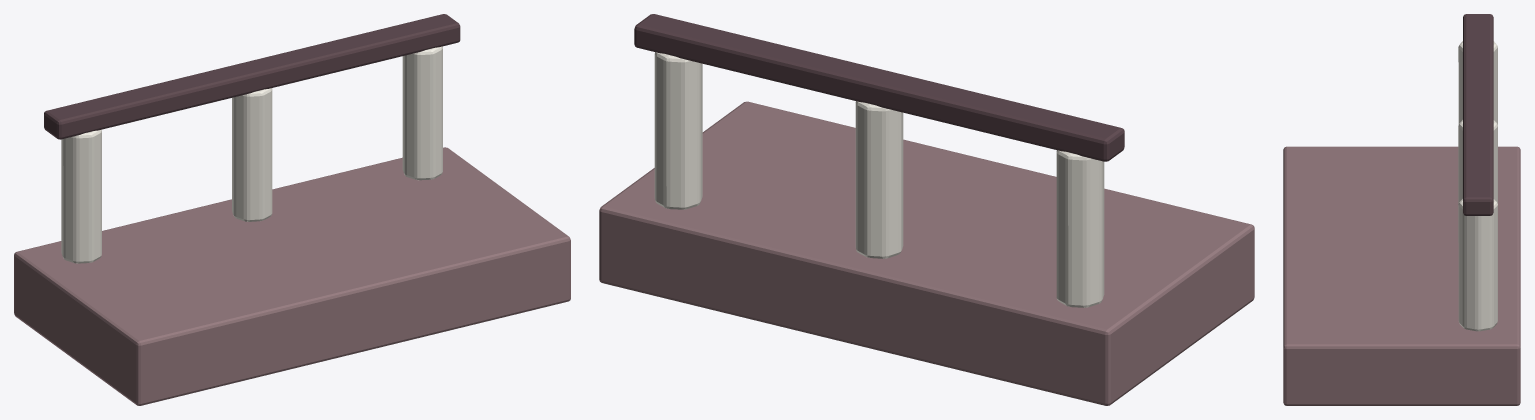
The model's file is SM_Neroberg_Vista.fbx.
The picture shows the model from 3 angles, left to right: view 1: azimuth 30°, elevation 25°; view 2: azimuth 150°, elevation 25°; view 3: azimuth 270°, elevation 25°; orthographic projection. The views are drawn at different scales.
Parts seen in each view (by area): view 1: SM_Neroberg_Vista; view 2: SM_Neroberg_Vista; view 3: SM_Neroberg_Vista.
Boxes of the visible parts, box(x1,y1,x2,y2) form: SM_Neroberg_Vista: box(14, 14, 570, 405); SM_Neroberg_Vista: box(599, 14, 1254, 405); SM_Neroberg_Vista: box(1283, 14, 1520, 405).
Bounding box in the file's own units: 2.8 × 1.31 × 1.4.
